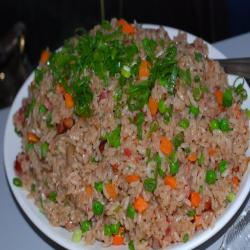rice: (36, 39, 245, 245)
